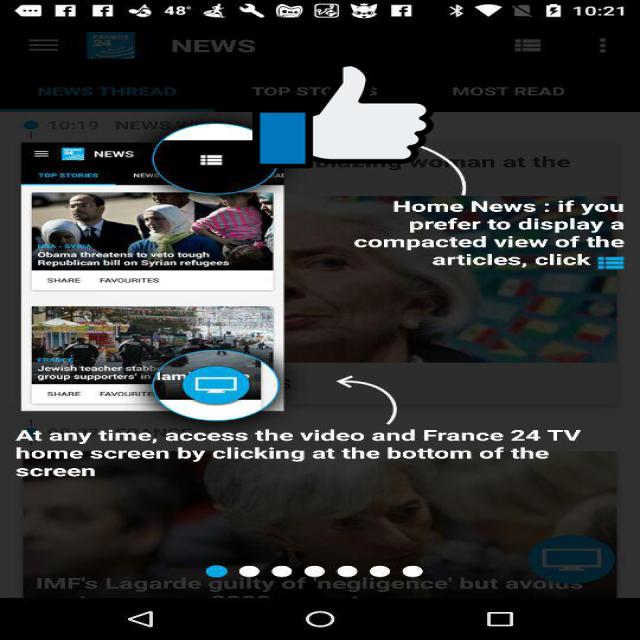privacy zuckering: (252, 59, 434, 171)
